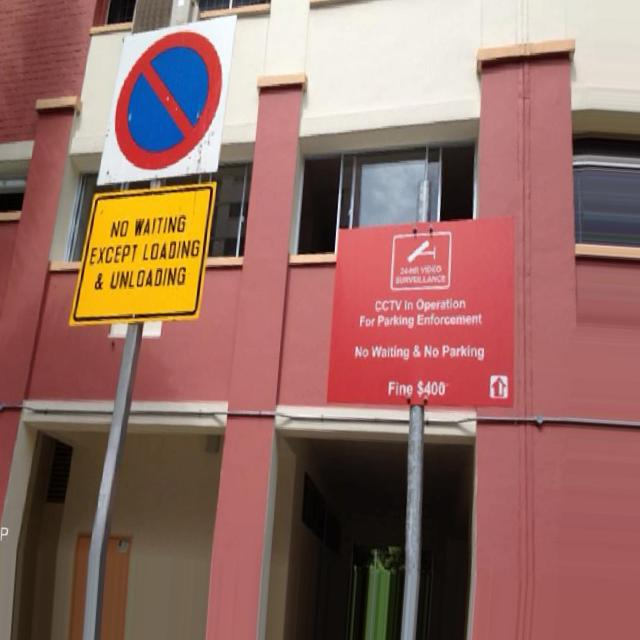forb_stopping: (115, 31, 223, 172)
